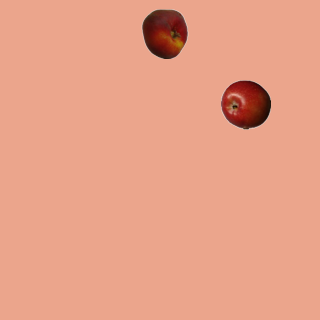Apple Braeburn: (220, 79, 270, 129)
Nectarine Flat: (139, 8, 189, 58)
